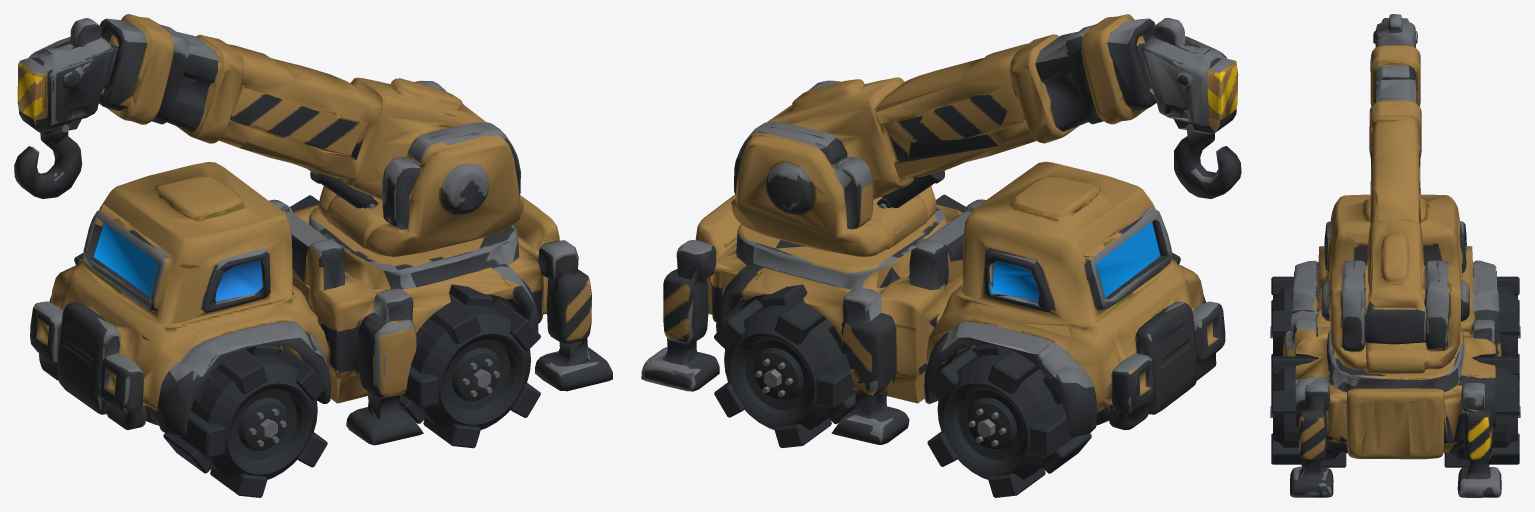
The model's file is OZ_CRANE_Live.glb.
3 views of the same model, side by side, from view 1: azimuth 30°, elevation 25°; view 2: azimuth 150°, elevation 25°; view 3: azimuth 270°, elevation 25° (orthographic). The views are drawn at different scales.
Parts seen in each view (by area): view 1: Crane_Chassis, Crane_Boom, Crane_Jib, Crane_Turntable, CRANE_Tyre_L0, CRANE_Tyre_L1, Crane_Hook, Crane_RamCylinder; view 2: Crane_Chassis, Crane_Boom, Crane_Turntable, Crane_Jib, CRANE_Tyre_R0, CRANE_Tyre_R1, Crane_Hook, Crane_RamCylinder; view 3: Crane_Chassis, Crane_Turntable, Crane_Boom, Crane_Jib, CRANE_Tyre_L1, CRANE_Tyre_R1, CRANE_Tyre_R0, CRANE_Tyre_L0.
Part boxes in pixels (left/top/right/bottom): Crane_Chassis: left=30, top=162, right=612, bottom=445; Crane_Boom: left=176, top=35, right=481, bottom=195; Crane_Jib: left=17, top=14, right=226, bottom=133; Crane_Turntable: left=318, top=80, right=523, bottom=256; CRANE_Tyre_L0: left=163, top=345, right=327, bottom=497; CRANE_Tyre_L1: left=399, top=284, right=540, bottom=448; Crane_Hook: left=14, top=120, right=81, bottom=198; Crane_RamCylinder: left=310, top=172, right=378, bottom=208; Crane_Chassis: left=641, top=161, right=1225, bottom=444; Crane_Boom: left=773, top=35, right=1078, bottom=194; Crane_Turntable: left=731, top=80, right=936, bottom=256; Crane_Jib: left=1028, top=14, right=1238, bottom=132; CRANE_Tyre_R0: left=927, top=344, right=1091, bottom=497; CRANE_Tyre_R1: left=714, top=284, right=855, bottom=448; Crane_Hook: left=1174, top=122, right=1241, bottom=198; Crane_RamCylinder: left=877, top=171, right=944, bottom=208; Crane_Chassis: left=1283, top=194, right=1501, bottom=497; Crane_Turntable: left=1321, top=246, right=1469, bottom=373; Crane_Boom: left=1368, top=102, right=1422, bottom=291; Crane_Jib: left=1370, top=14, right=1421, bottom=125; CRANE_Tyre_L1: left=1270, top=356, right=1346, bottom=467; CRANE_Tyre_R1: left=1444, top=356, right=1520, bottom=467; CRANE_Tyre_R0: left=1496, top=276, right=1520, bottom=380; CRANE_Tyre_L0: left=1270, top=276, right=1294, bottom=380.
Size of the model in its own units: 1.9 by 1.52 by 1.04.
Materials: 1 (1 with a texture image).
